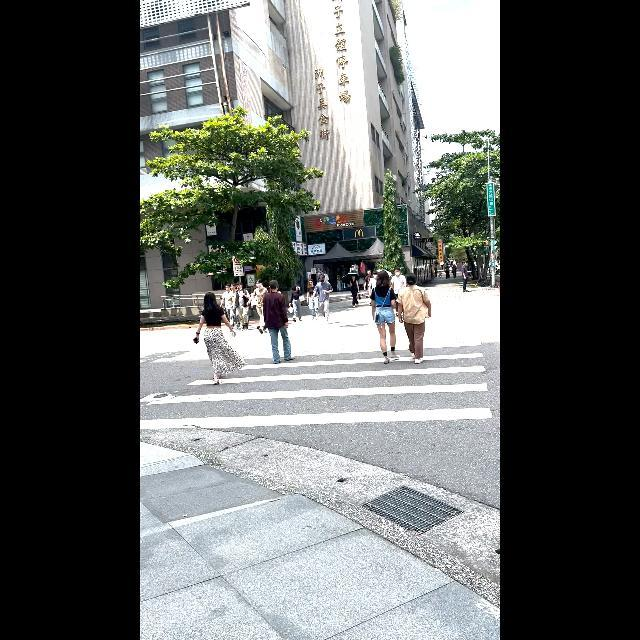sidewalk: (140, 349, 500, 509)
